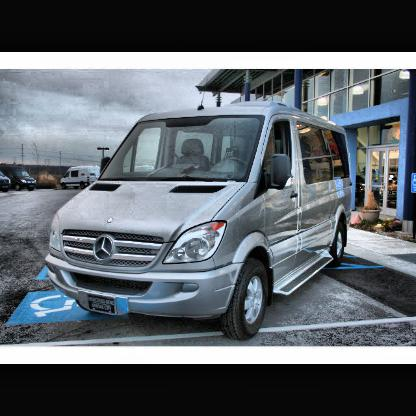Mercedes-Benz Sprinter Van 2012: (43, 80, 355, 347)
